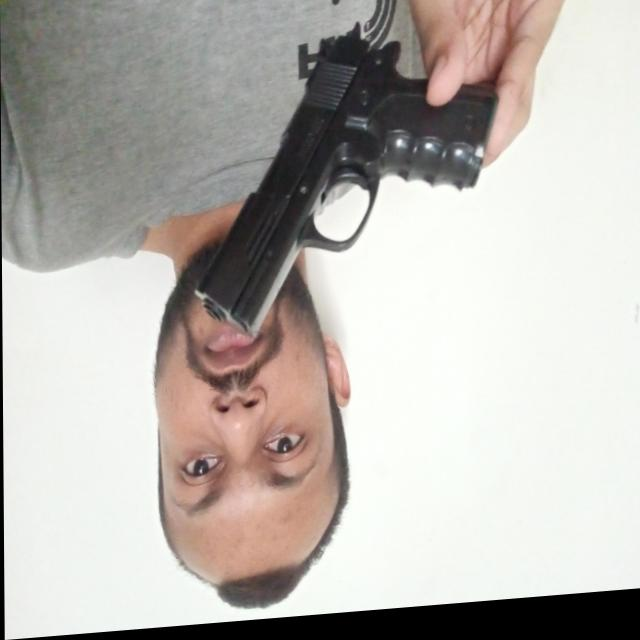handgun: (190, 15, 502, 351)
